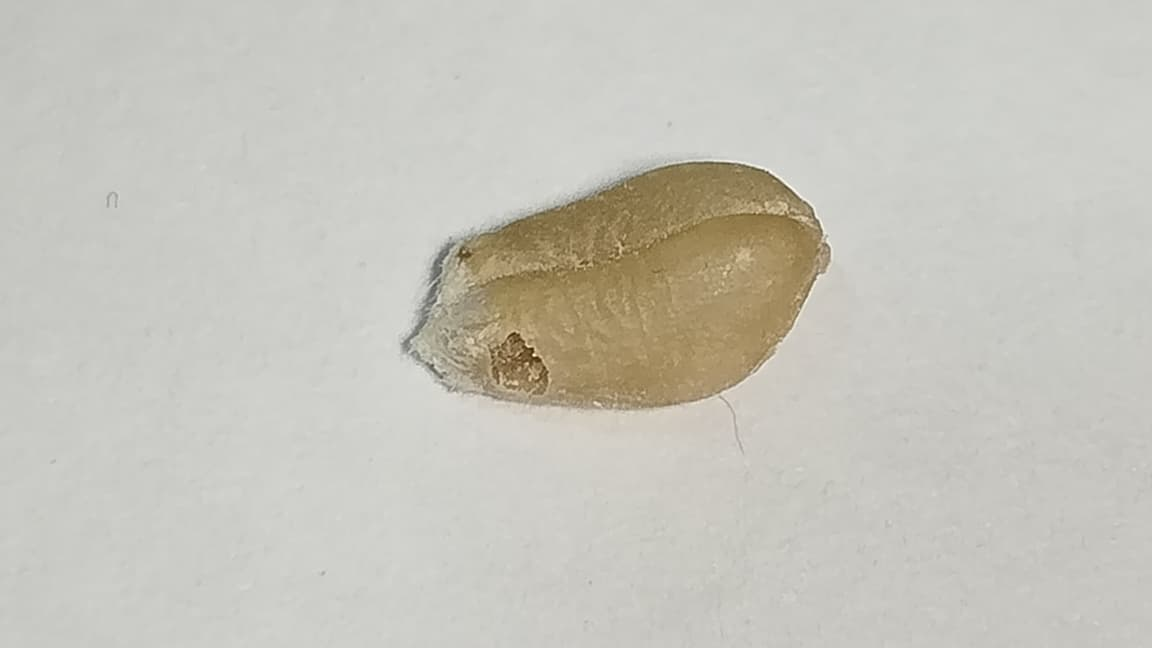damage: (409, 161, 825, 408)
insectdamage: (465, 318, 595, 412)
